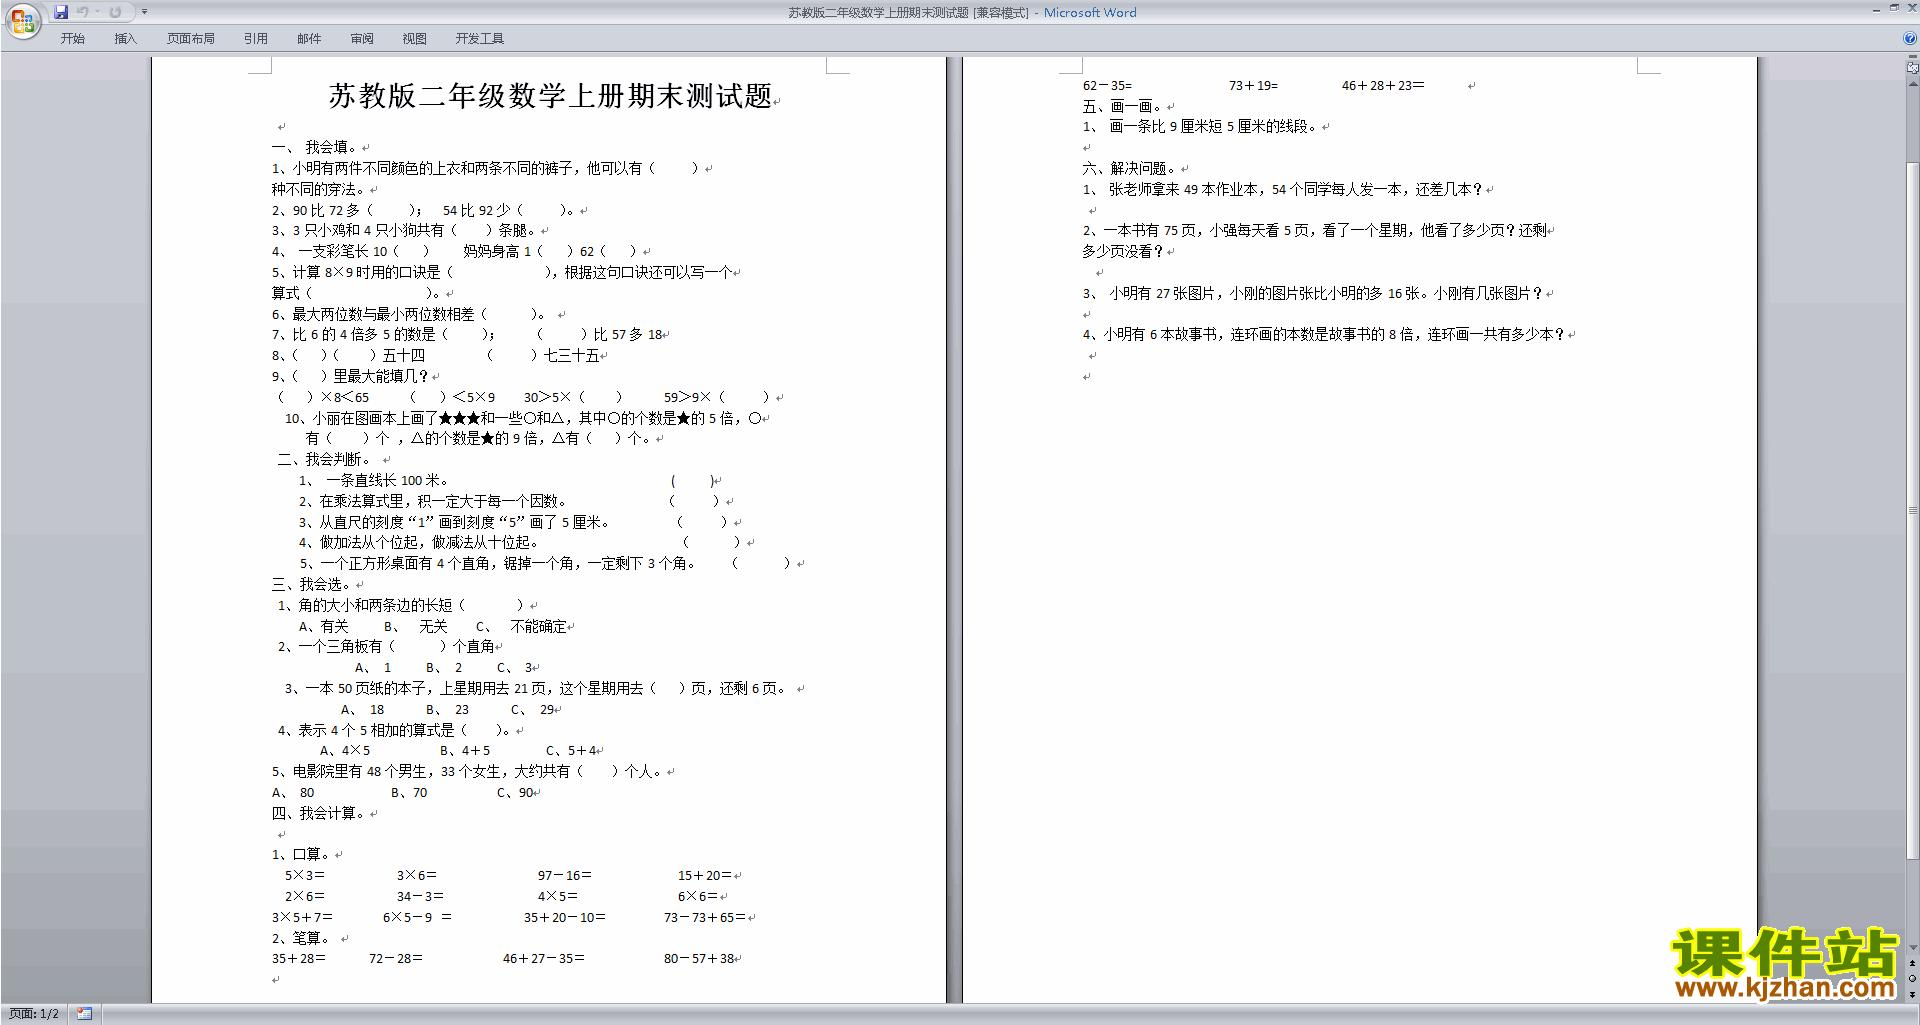Math: (265, 850, 757, 930), (270, 370, 775, 404), (274, 332, 681, 365), (277, 721, 612, 758), (513, 77, 775, 108), (270, 243, 646, 260), (268, 199, 582, 216), (1073, 79, 1440, 90), (1110, 160, 1175, 174)
